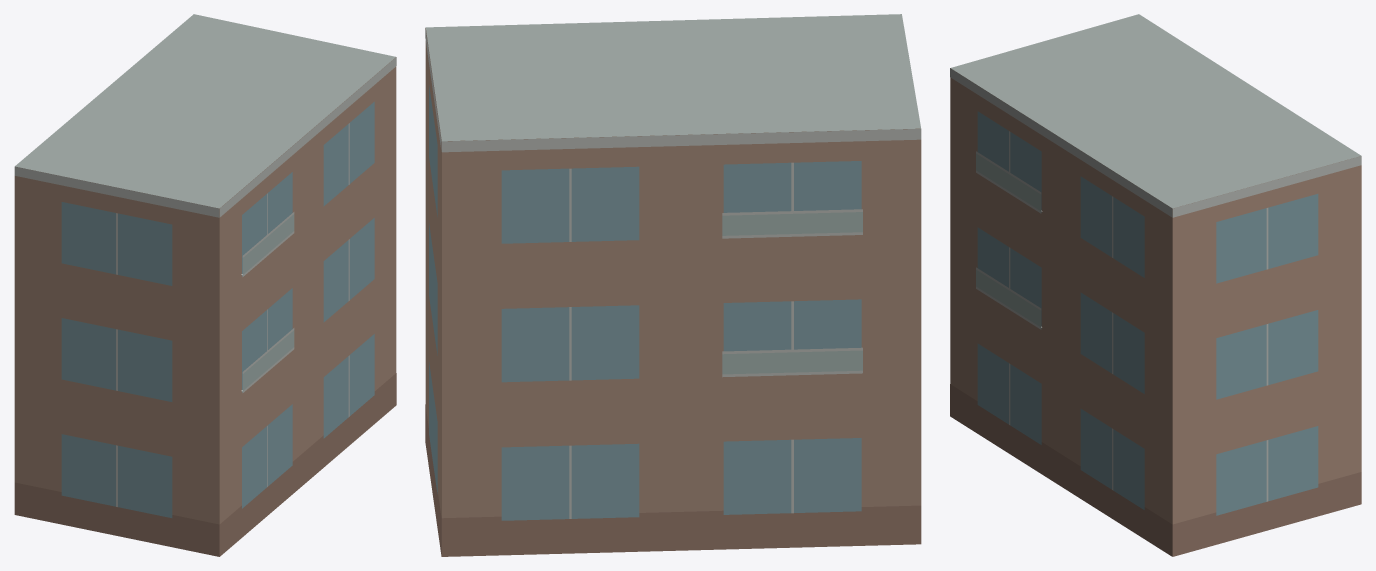
Rendered from survey-upis-33024047.glb.
3 views of the same model, side by side, from view 1: azimuth 30°, elevation 25°; view 2: azimuth 150°, elevation 25°; view 3: azimuth 270°, elevation 25° (orthographic). The views are drawn at different scales.
Visible parts, largest first — view 1: survey-upis-33024047.tmp; view 2: survey-upis-33024047.tmp; view 3: survey-upis-33024047.tmp.
Boxes of the visible parts, x1,y1,x2,y2 form: survey-upis-33024047.tmp: (14,14,396,556); survey-upis-33024047.tmp: (425,14,921,556); survey-upis-33024047.tmp: (950,14,1361,556).
Size of the model in its own units: 10.96 by 9.15 by 9.8.
